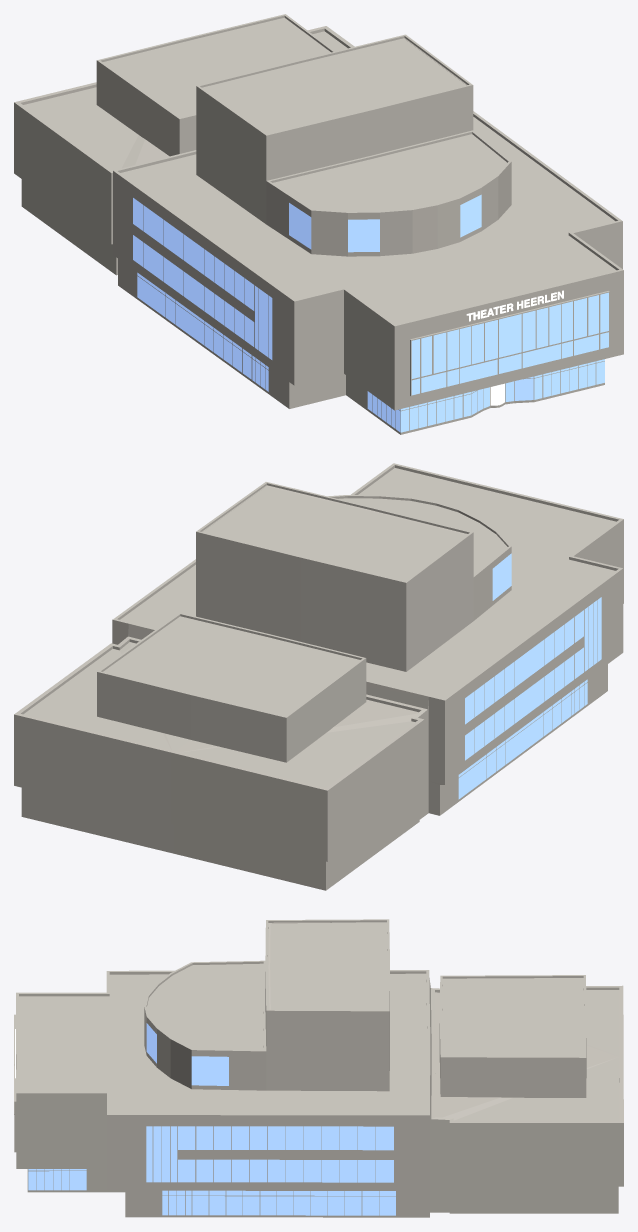
Rendered from theaterheerlen.glb.
3 renders of one model, top to bottom at view 1: azimuth 30°, elevation 25°; view 2: azimuth 150°, elevation 25°; view 3: azimuth 270°, elevation 25°, orthographic. The views are drawn at different scales.
Visible parts, largest first — view 1: Areas:building.002, Curve.032; view 2: Areas:building.002; view 3: Areas:building.002.
Part boxes in pixels (x1,y1,x2,y2): Areas:building.002: (14,14,623,434); Curve.032: (466,290,563,321); Areas:building.002: (14,463,623,890); Areas:building.002: (14,919,623,1217).
Size of the model in its own units: 111 by 64.49 by 196.
